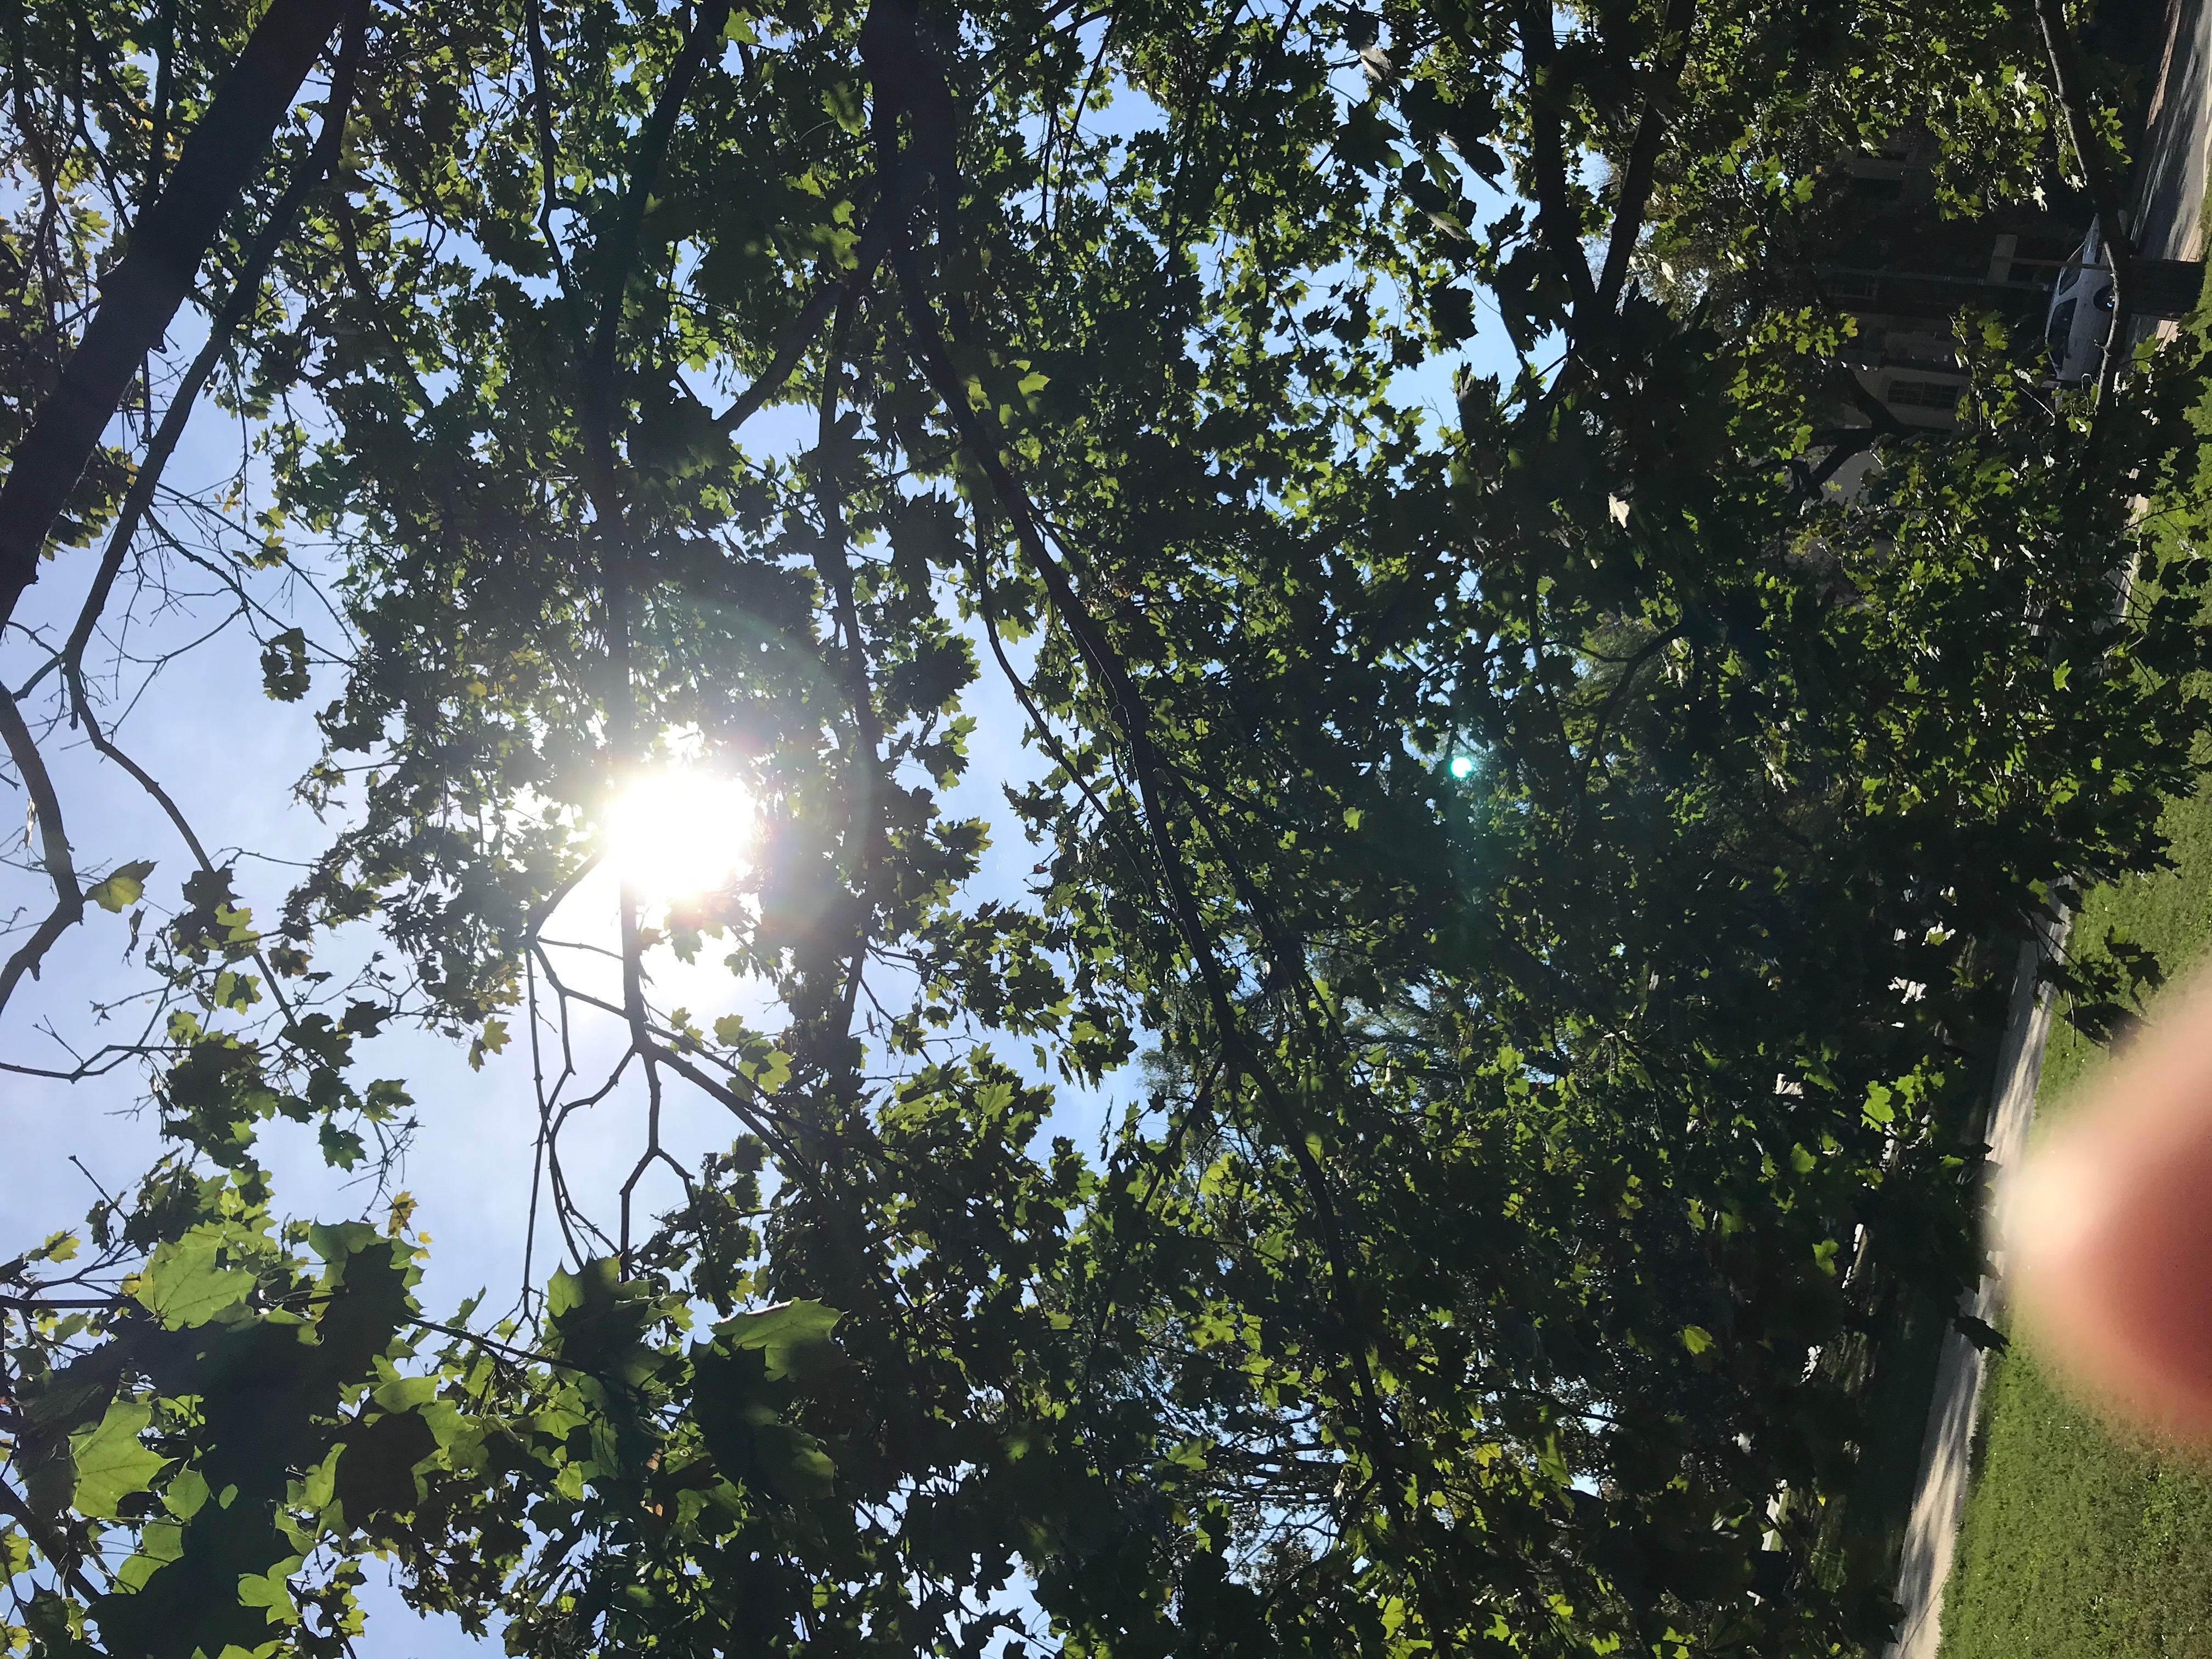flare: (1449, 756, 1475, 779)
